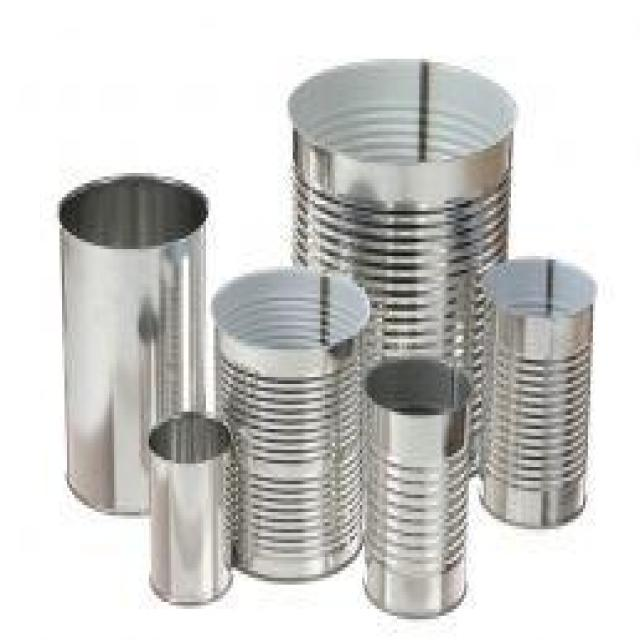metel: (47, 170, 223, 527), (207, 266, 380, 591), (281, 55, 527, 283), (349, 347, 483, 620), (479, 240, 600, 534), (143, 408, 242, 608)
